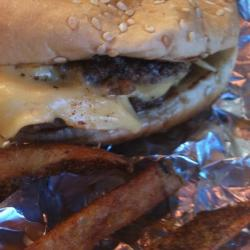burger: (1, 1, 238, 152)
fries: (59, 171, 184, 241)
